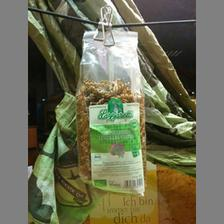Nudeln: (76, 26, 146, 194)
